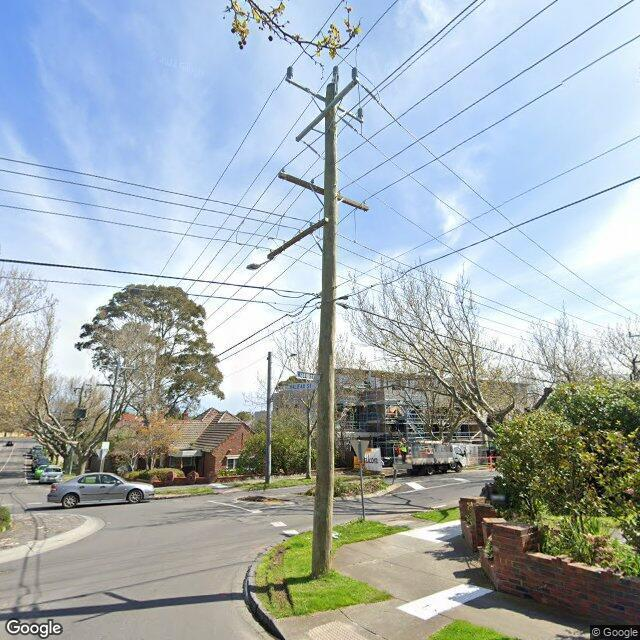HV-transmission: (286, 66, 364, 122), (100, 355, 135, 370)
crossarm: (295, 79, 359, 141), (279, 168, 369, 212), (290, 81, 362, 122), (266, 217, 330, 259), (103, 364, 133, 370), (96, 382, 126, 388)
steel-pole: (264, 351, 272, 484)
streetlight: (271, 353, 298, 397), (246, 258, 274, 270)
timber-pole: (312, 81, 338, 576), (106, 363, 120, 440), (74, 386, 83, 438)
transformer: (73, 406, 87, 418)
